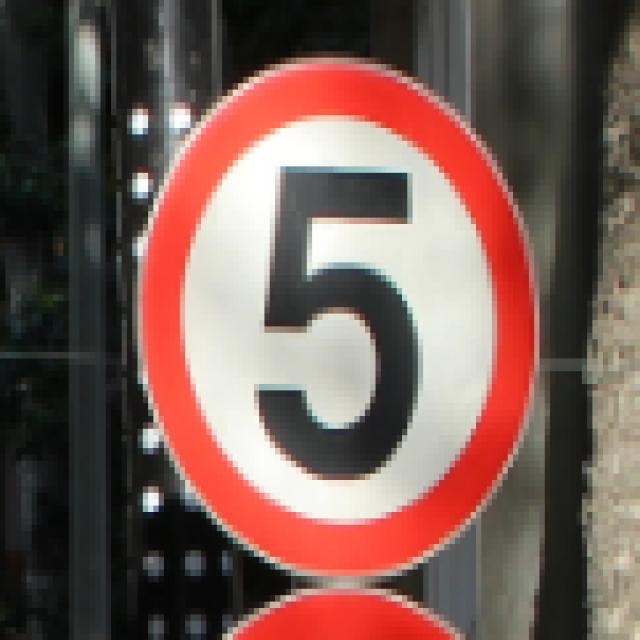Speed: (121, 40, 595, 588)
